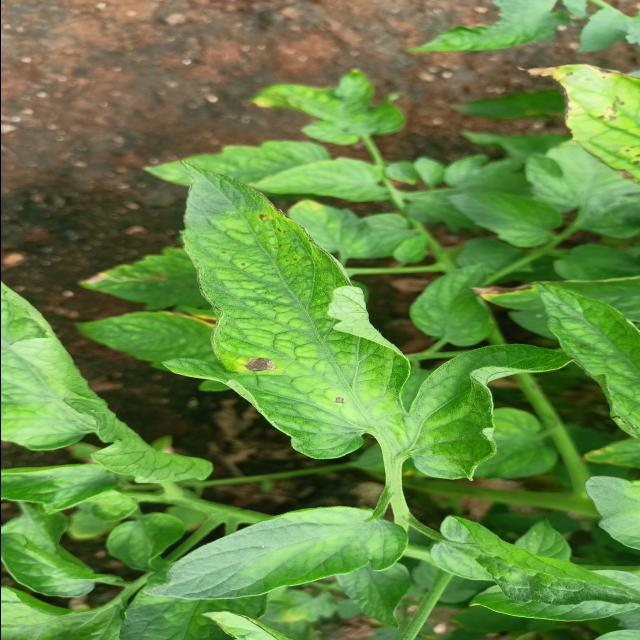Tomato mosaic virus leaf: (160, 158, 412, 460)
